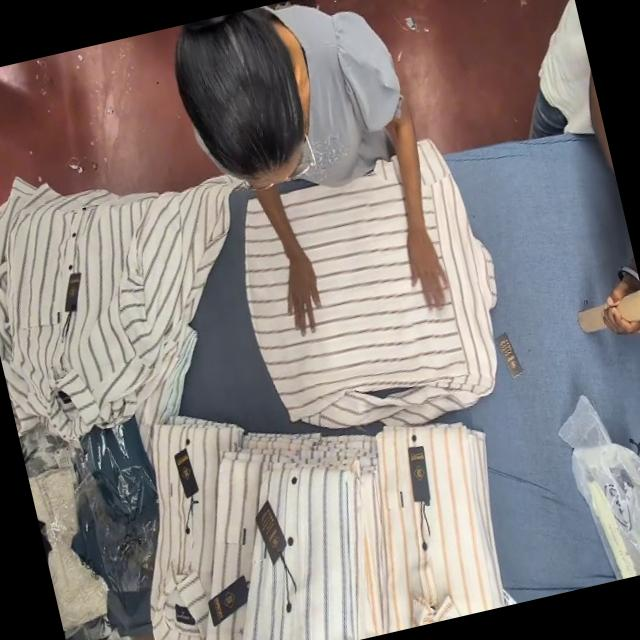new-garment: (245, 141, 495, 427)
